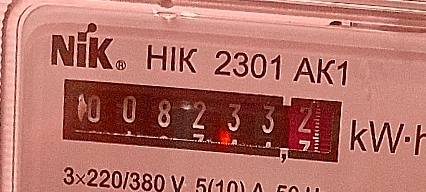0: (81, 91, 104, 124), (117, 92, 138, 125)
2: (186, 97, 209, 131), (295, 102, 314, 135)
3: (223, 100, 243, 132), (258, 102, 277, 134)
8: (153, 95, 173, 128)
screen: (48, 66, 354, 171)
